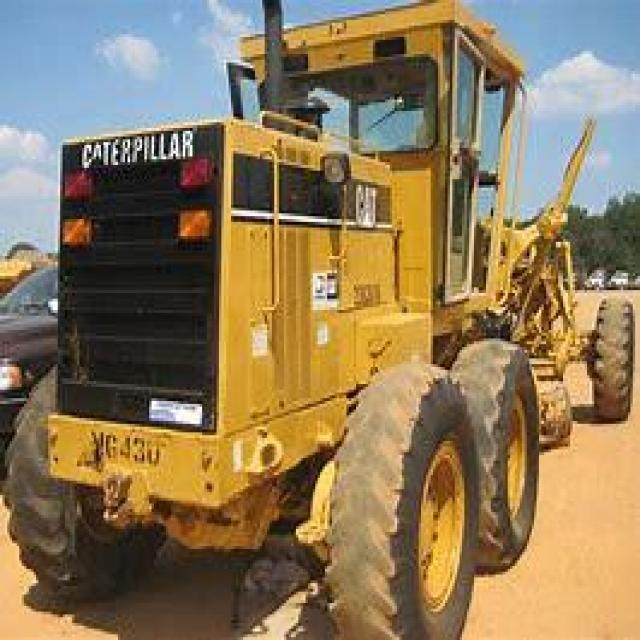Grader: (14, 0, 637, 634)
